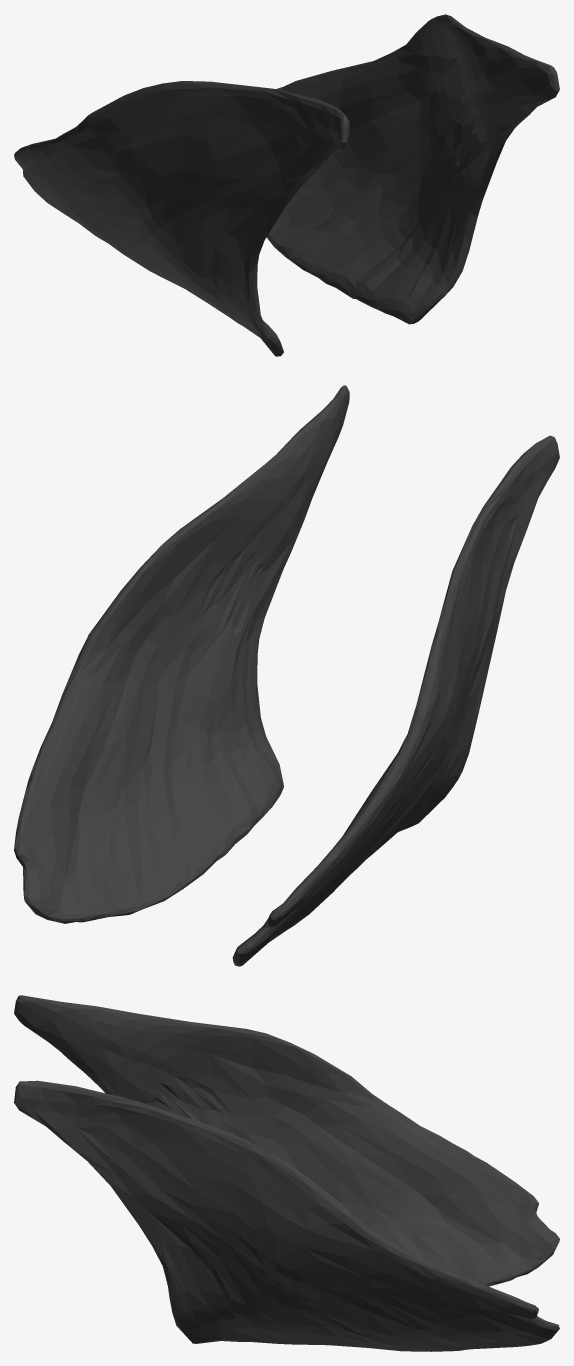
The model's file is m_latissimus_dorsi.glb.
The picture shows the model from 3 angles, top to bottom: view 1: azimuth 30°, elevation 25°; view 2: azimuth 150°, elevation 25°; view 3: azimuth 270°, elevation 25°; orthographic projection. The views are drawn at different scales.
Parts seen in each view (by area): view 1: m_latissimus_dorsi; view 2: m_latissimus_dorsi; view 3: m_latissimus_dorsi.
Part boxes in pixels (<box>): m_latissimus_dorsi: <box>14,14,559,356</box>; m_latissimus_dorsi: <box>14,385,559,966</box>; m_latissimus_dorsi: <box>14,995,559,1351</box>.
Bounding box in the file's own units: 0.00508 × 0.0048 × 0.00824.
1 material, 1 textured.
